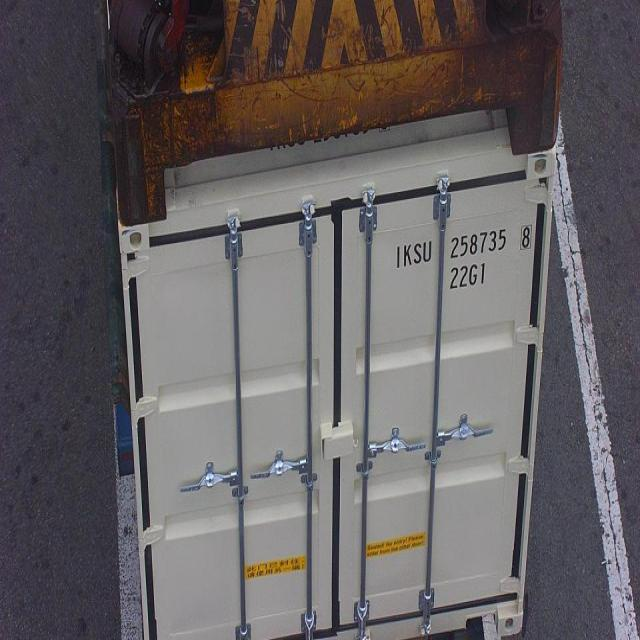ISO: (447, 263, 490, 286)
container_number: (398, 225, 528, 263)
